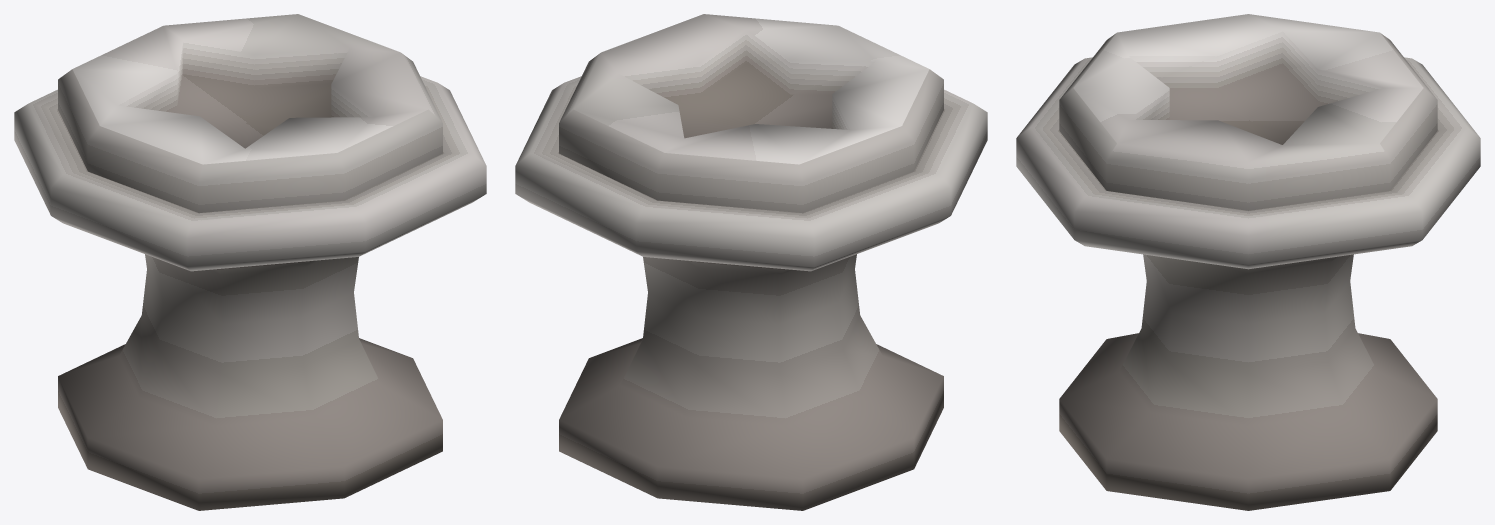
File: DL_Obj_Level5_AltarStar.fbx
3 renders of one model, left to right at view 1: azimuth 30°, elevation 25°; view 2: azimuth 150°, elevation 25°; view 3: azimuth 270°, elevation 25°, orthographic.
Visible parts, largest first — view 1: Level5_AltarStar; view 2: Level5_AltarStar; view 3: Level5_AltarStar.
Part boxes in pixels (box(x1,y1,x2,y2)): Level5_AltarStar: box(14, 14, 486, 510); Level5_AltarStar: box(515, 14, 987, 510); Level5_AltarStar: box(1016, 14, 1480, 510).
Size of the model in its own units: 123 by 100 by 123.
